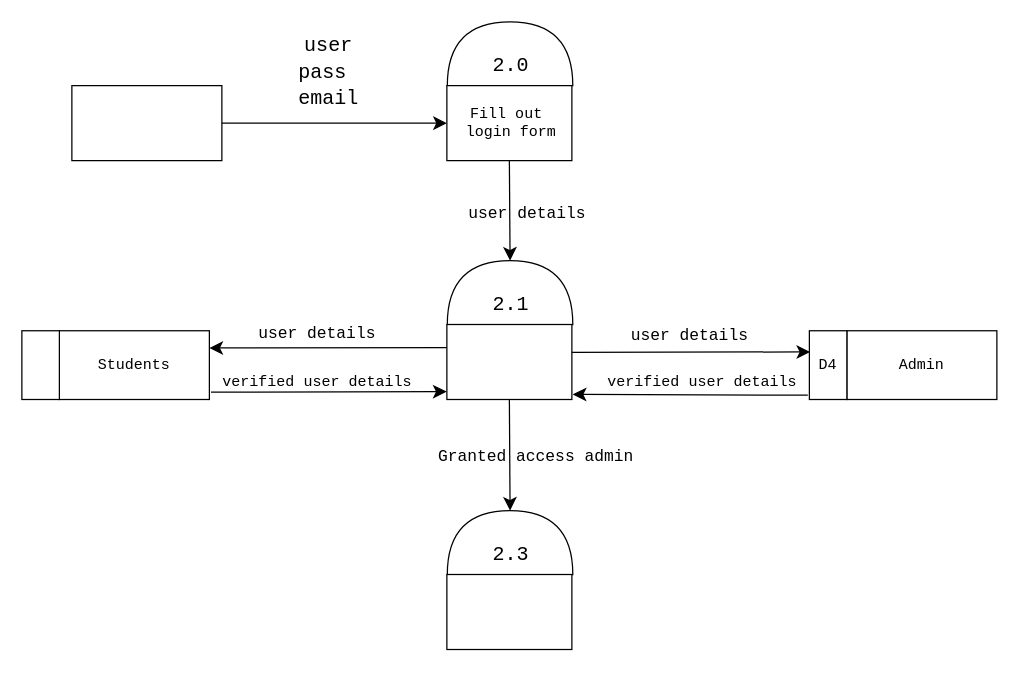
Image size: 1019x673. Some labels were removed from this diagram. Each missing label, with the box of its shape:
D3: (21, 330, 59, 400)
Library User: (71, 84, 222, 161)
User Dashboard: (446, 573, 572, 650)
Verify User: (446, 323, 572, 400)
